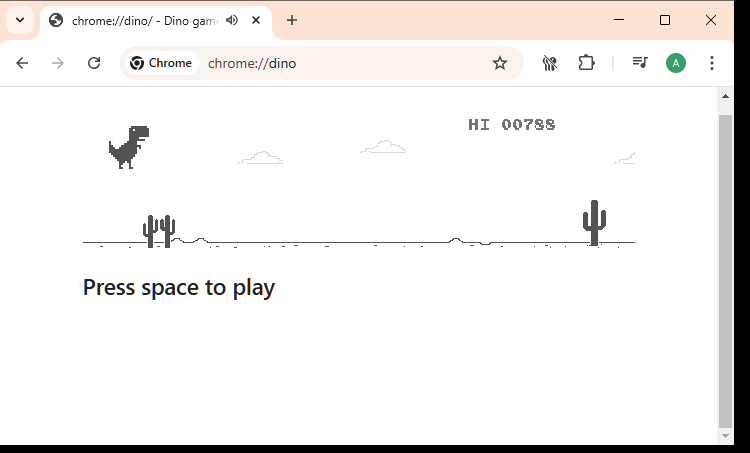cactus: (582, 199, 607, 247), (159, 214, 176, 249), (142, 214, 159, 248)
dino: (108, 125, 150, 170)
